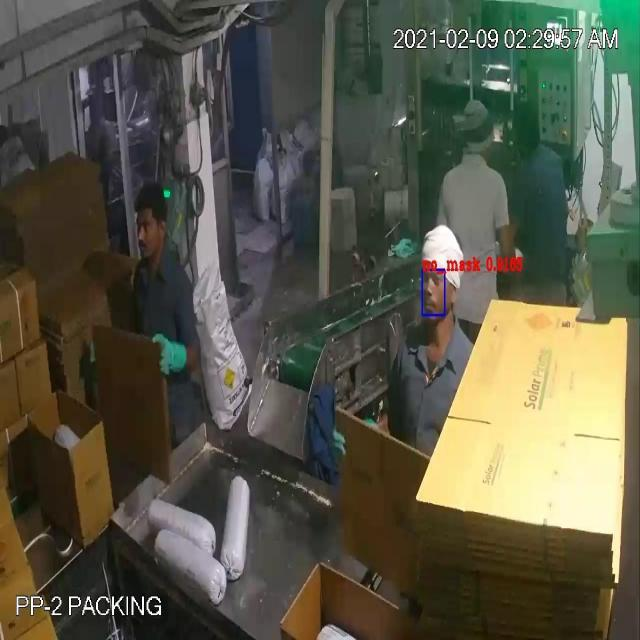Gloves: (143, 314, 203, 391)
